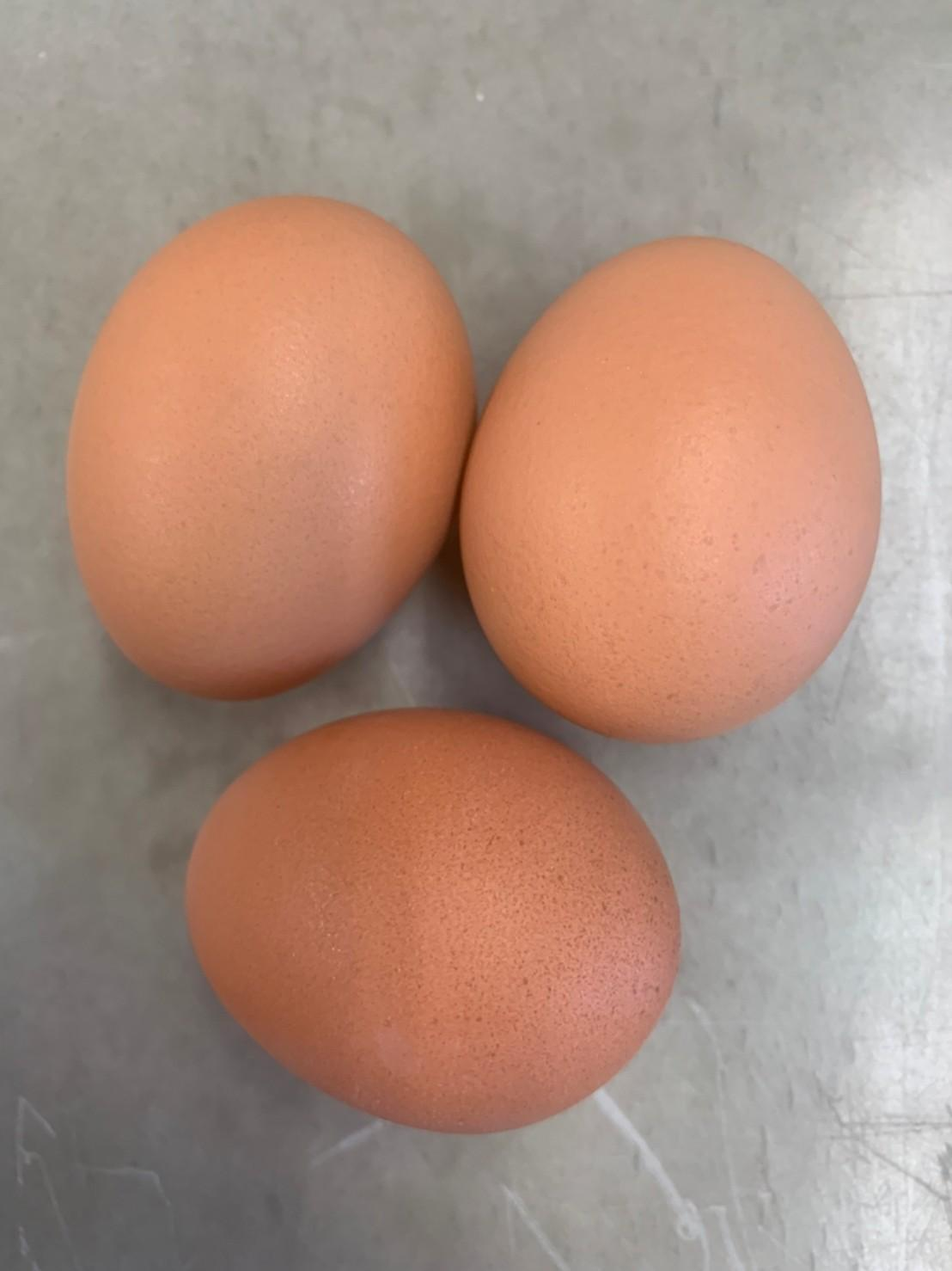egg: (175, 700, 689, 1136), (449, 229, 880, 734), (61, 189, 467, 710)
